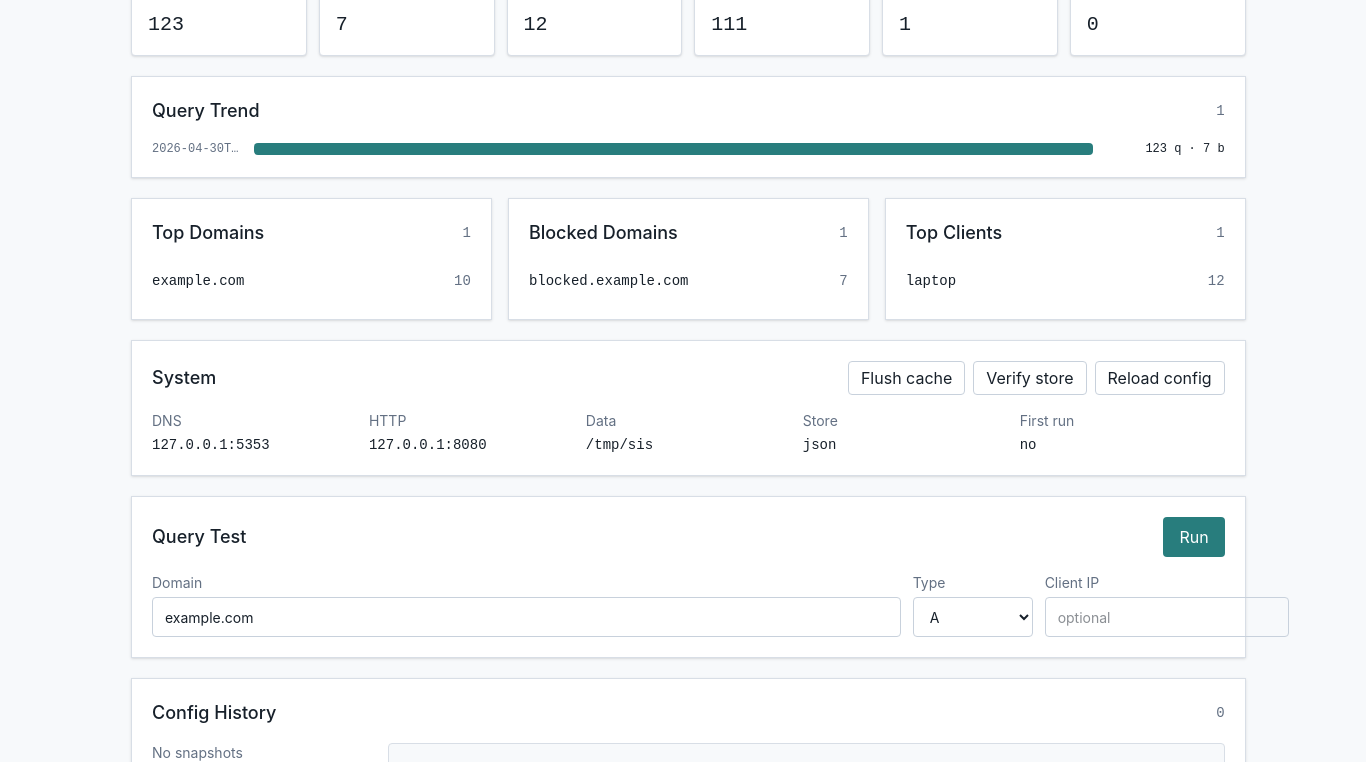
Test case: App › shows system action errors without reloading dashboard data
(page scrolled)
Click the button "Flush cache" at (907, 378), box x1=848 y1=361 x2=965 y2=395
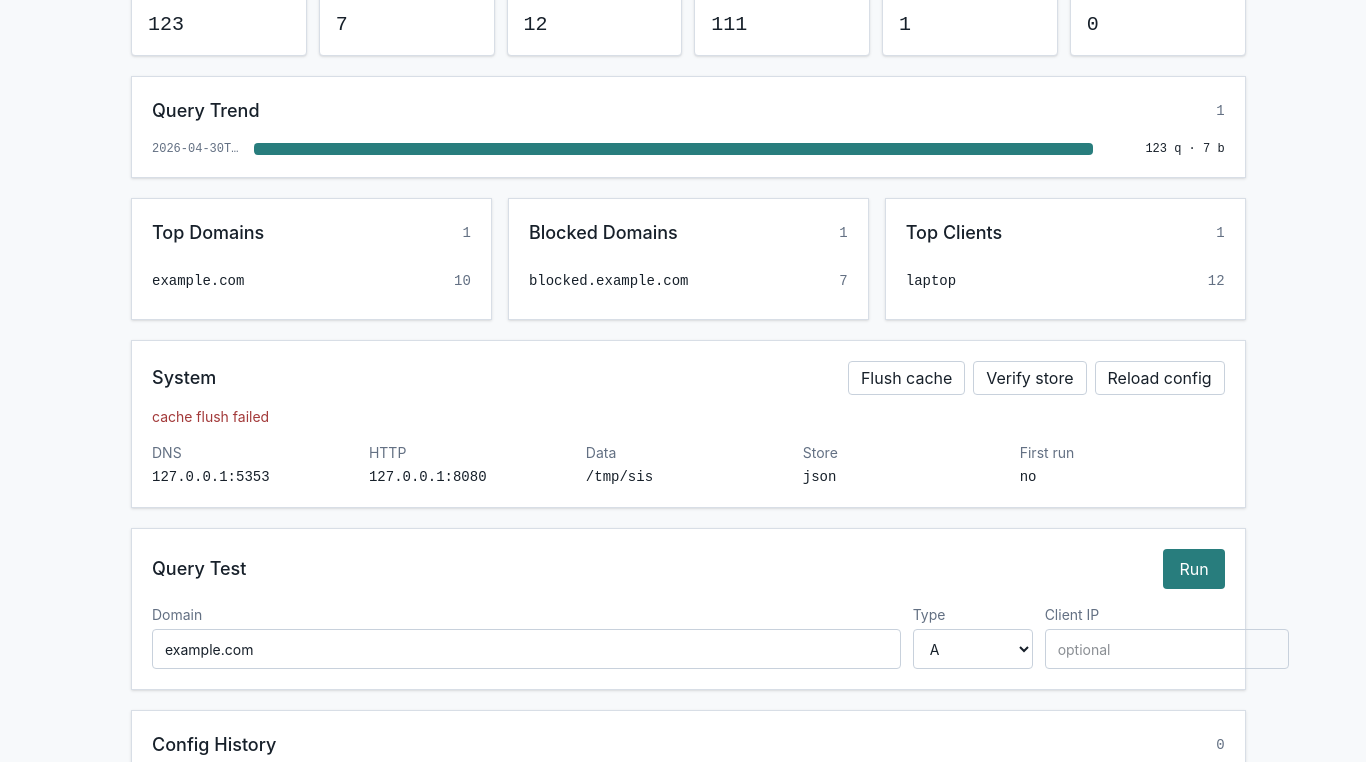
expect the text "cache flush failed" is shown: met, box x1=152 y1=408 x2=269 y2=425
